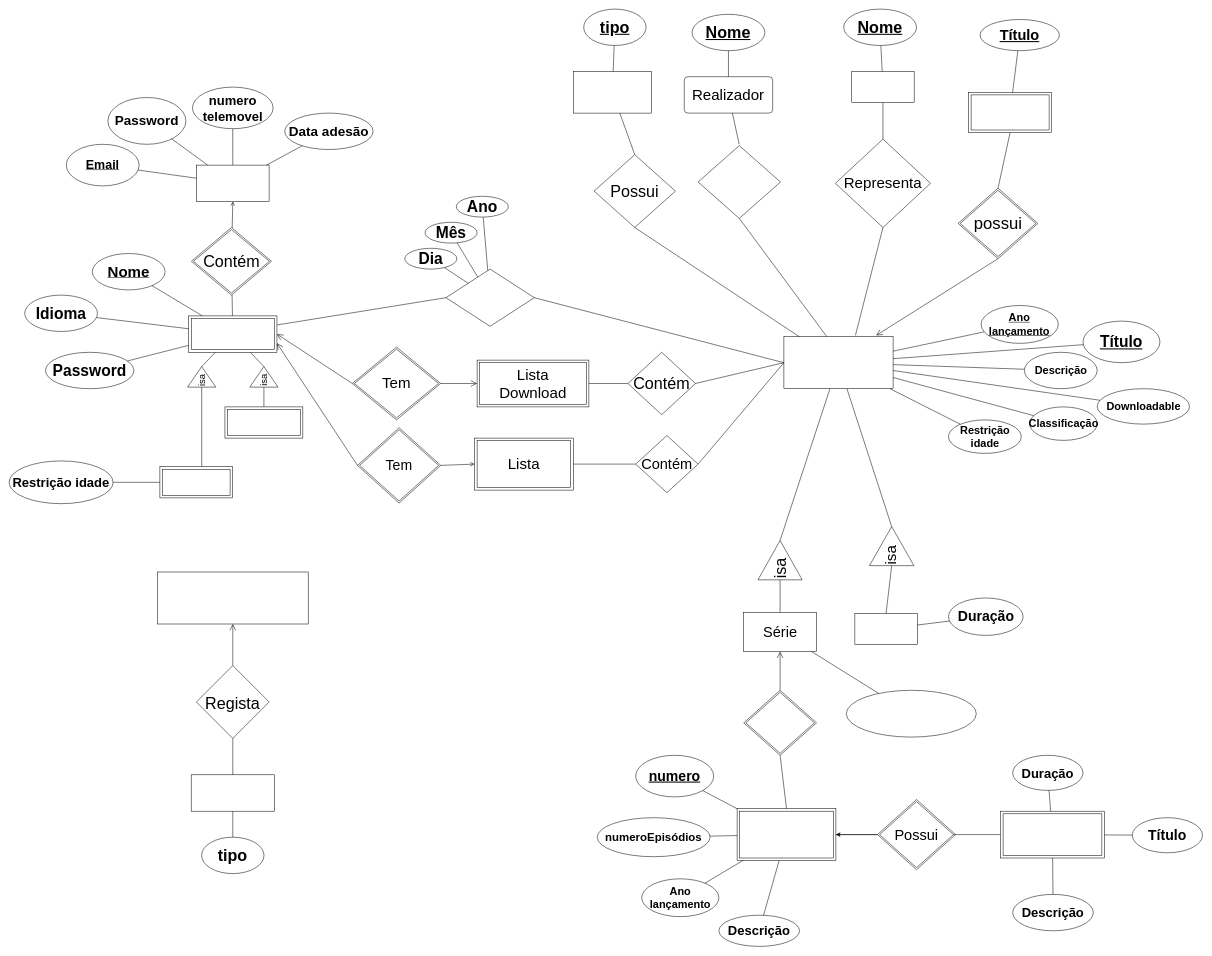
Some shapes in this 1212 by 956 pixel diagram are drawn without their labels. Here are the shapes that lost their labels. From the top down, the centre of each, then its label:
At (612,92): "Género".
At (882,87): "Ator".
At (1010,112): "Trailer".
At (232,183): "Conta".
At (739,181): "Realiza".
At (489,297): "Visualiza".
At (232,333): "Perfil".
At (838,362): "Media".
At (263,422): "Normal".
At (196,482): "Criança".
At (232,597): "Sistema de logs".
At (885,628): "Filme".
At (780,722): "Contem".
At (911,713): "NumeroTemporadas".
At (232,792): "Evento".
At (786,834): "Temporada".
At (1052,834): "Episodio".
